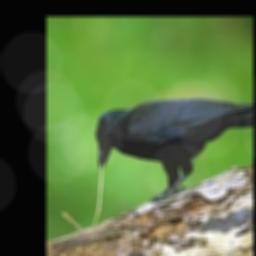Crow: (94, 97, 253, 203)
